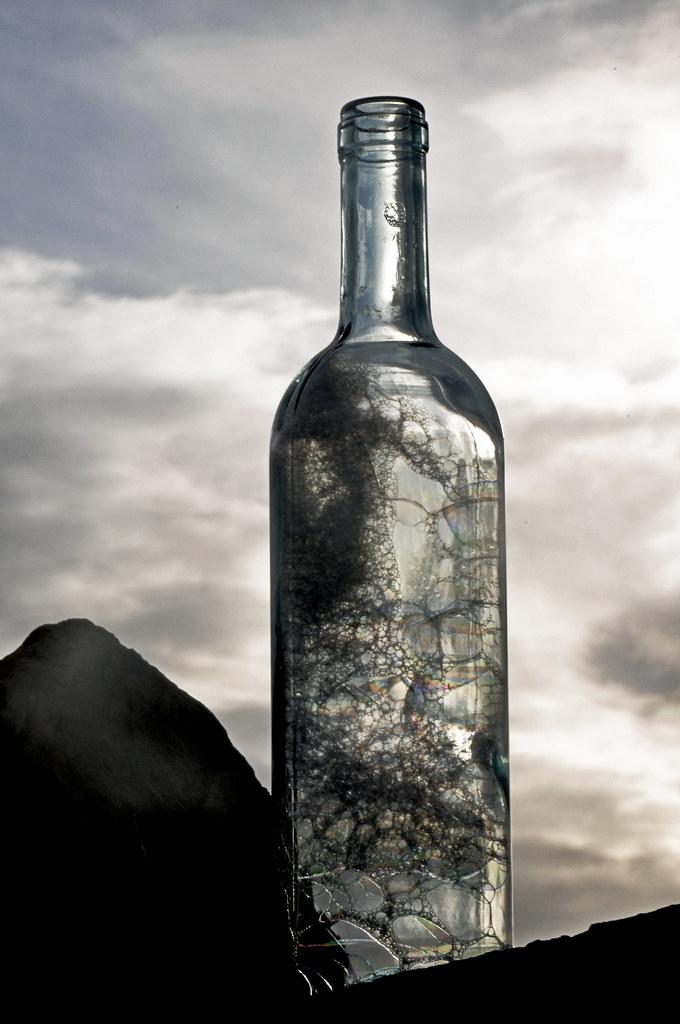bottle: (269, 95, 514, 993)
